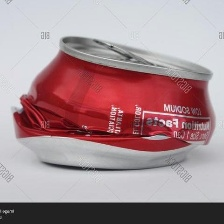can: (6, 27, 219, 176)
